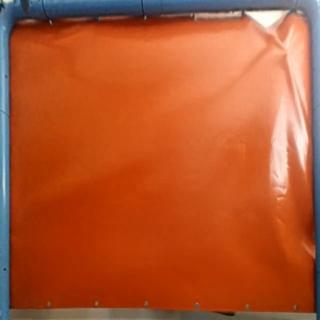Hit-hRxx: (278, 42, 294, 58)
